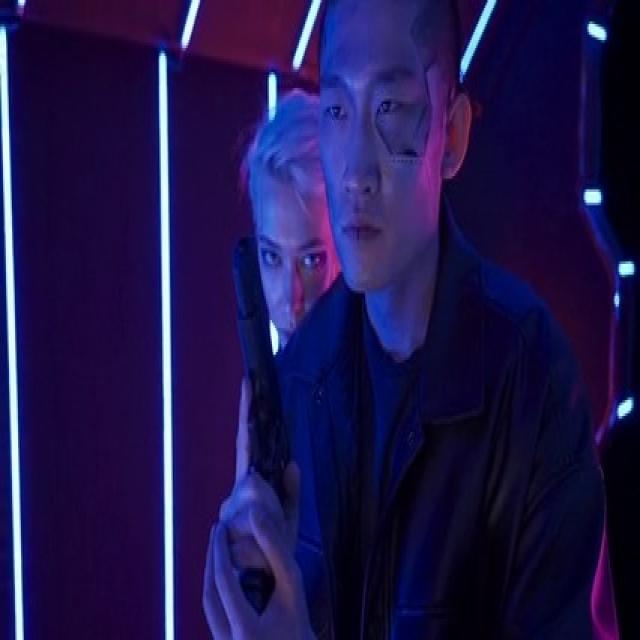Gun_Holder: (209, 223, 322, 640)
Jacket_Wearer: (266, 229, 620, 640)
Person: (271, 0, 620, 640), (228, 96, 336, 640)
